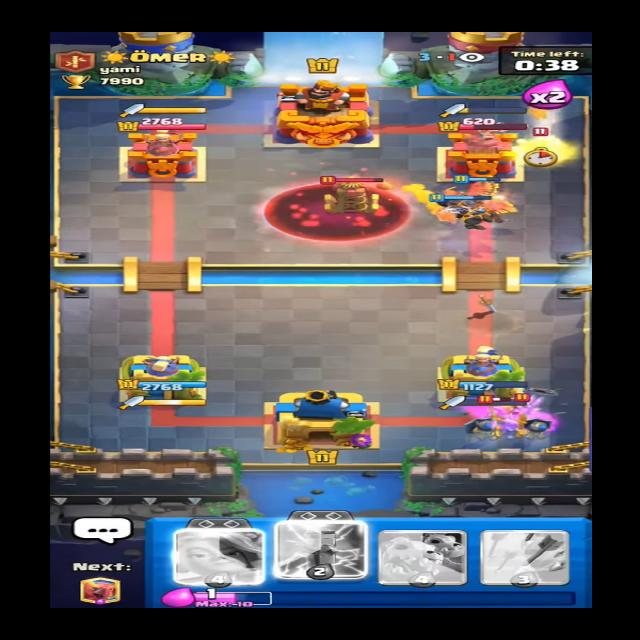tesla: (308, 175, 388, 217)
